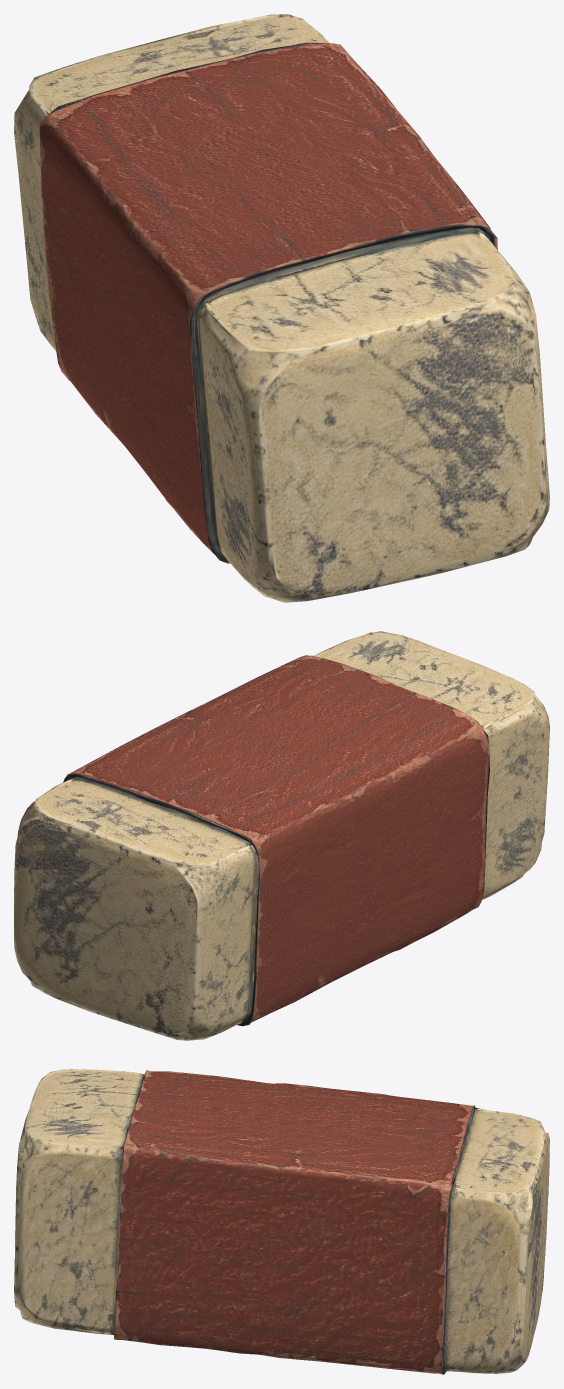
File: DeskEraser.fbx
3 renders of one model, top to bottom at view 1: azimuth 30°, elevation 25°; view 2: azimuth 150°, elevation 25°; view 3: azimuth 270°, elevation 25°, orthographic. The views are drawn at different scales.
Parts seen in each view (by area): view 1: tripo_node_15c4b34f-32bf-4279-bfac-f09c611665dc; view 2: tripo_node_15c4b34f-32bf-4279-bfac-f09c611665dc; view 3: tripo_node_15c4b34f-32bf-4279-bfac-f09c611665dc.
Boxes of the visible parts, x1=… form: tripo_node_15c4b34f-32bf-4279-bfac-f09c611665dc: x1=14, y1=14, x2=549, y2=602; tripo_node_15c4b34f-32bf-4279-bfac-f09c611665dc: x1=14, y1=631, x2=549, y2=1040; tripo_node_15c4b34f-32bf-4279-bfac-f09c611665dc: x1=14, y1=1069, x2=549, y2=1374.
Size of the model in its own units: 61.77 by 43.94 by 100.
1 material, 1 textured.
